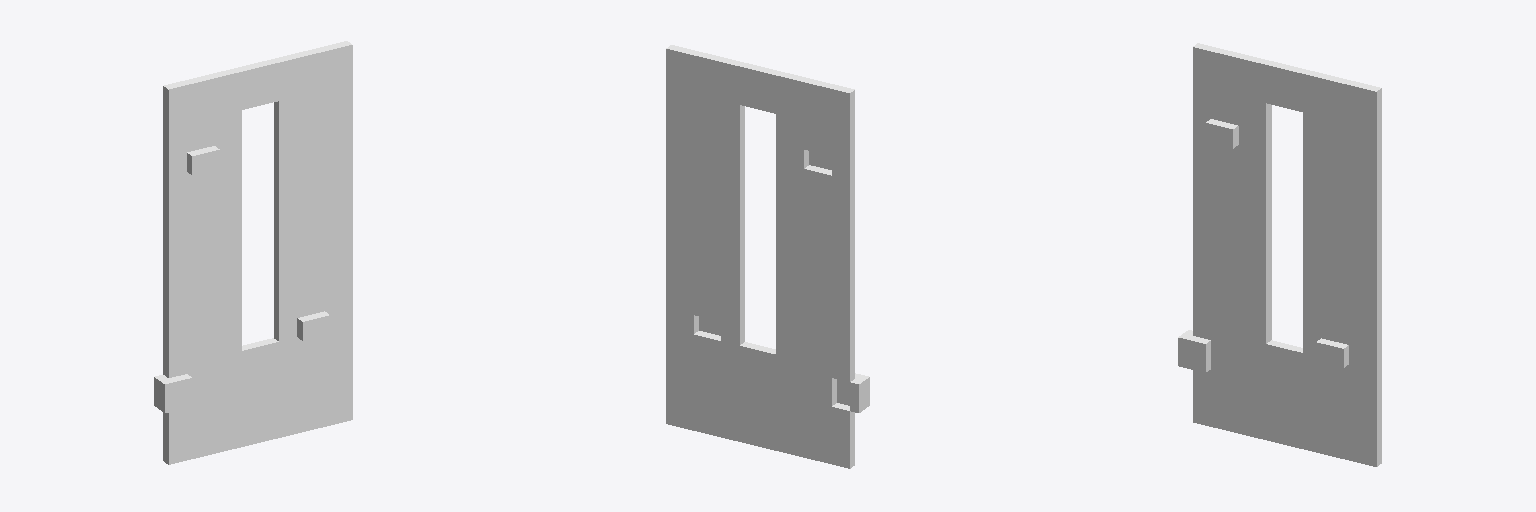
Rendered from TallBuilding02-3.obj.
The picture shows the model from 3 angles: view 1: azimuth 30°, elevation 25°; view 2: azimuth 150°, elevation 25°; view 3: azimuth 330°, elevation 25°; orthographic projection.
Parts seen in each view (by area): view 1: object 1; view 2: object 1; view 3: object 1.
Boxes of the visible parts, <box> form: object 1: <box>154,41,352,464</box>; object 1: <box>666,45,869,468</box>; object 1: <box>1178,43,1381,466</box>.
Bounding box in the file's own units: 2.1 × 3.9 × 0.2.